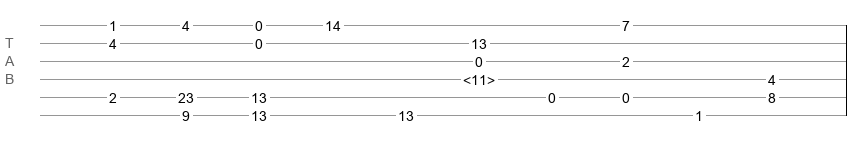0: (255, 36, 263, 46), (255, 18, 263, 28), (475, 54, 483, 64), (548, 90, 556, 100), (622, 90, 630, 100)
1: (109, 18, 117, 28), (695, 108, 703, 118)
13: (251, 90, 267, 100), (251, 108, 267, 118), (398, 108, 414, 118), (471, 36, 487, 46)
14: (325, 18, 341, 28)
2: (109, 90, 117, 100), (622, 54, 630, 64)
23: (178, 90, 194, 100)
4: (109, 36, 117, 46), (182, 18, 190, 28), (768, 72, 776, 82)
7: (622, 18, 630, 28)
8: (768, 90, 776, 100)
9: (182, 108, 190, 118)
harmonic: (463, 72, 495, 82)
